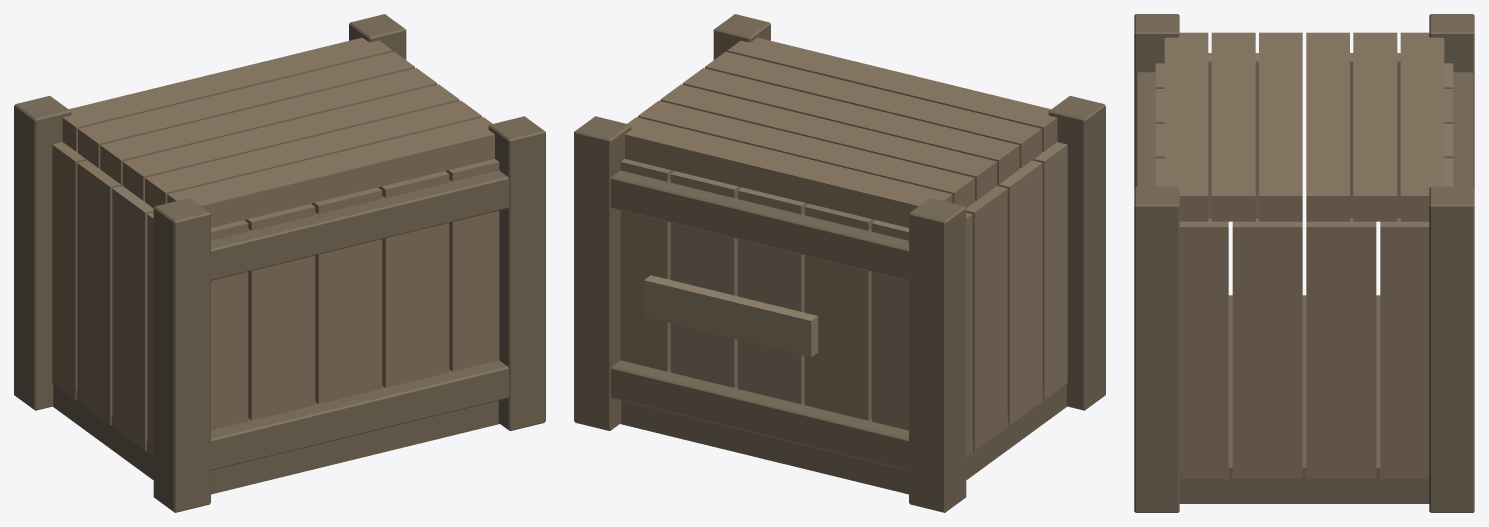
Rendered from env_crate_v06_cross_plank_lid.glb.
The picture shows the model from 3 angles, left to right: view 1: azimuth 30°, elevation 25°; view 2: azimuth 150°, elevation 25°; view 3: azimuth 270°, elevation 25°; orthographic projection. The views are drawn at different scales.
Parts seen in each view (by area): view 1: material_0, material_2, material_5; view 2: material_2, material_0, material_5, material_6; view 3: material_0, material_2, material_5.
Part boxes in pixels (left/top/right/bottom): material_0: left=52, top=37, right=499, bottom=469; material_2: left=14, top=14, right=545, bottom=512; material_5: left=112, top=186, right=153, bottom=456; material_2: left=574, top=14, right=1105, bottom=512; material_0: left=620, top=37, right=1057, bottom=459; material_5: left=670, top=142, right=1067, bottom=469; material_6: left=644, top=275, right=818, bottom=357; material_0: left=1155, top=32, right=1453, bottom=478; material_2: left=1134, top=14, right=1474, bottom=512; material_5: left=1208, top=53, right=1453, bottom=218.
Size of the model in its own units: 0.8 by 0.6 by 0.6.
